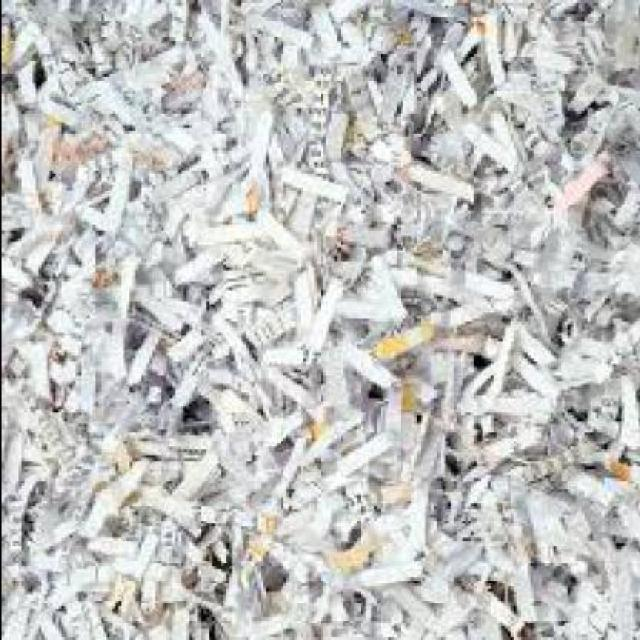PAPER: (1, 0, 636, 638)
